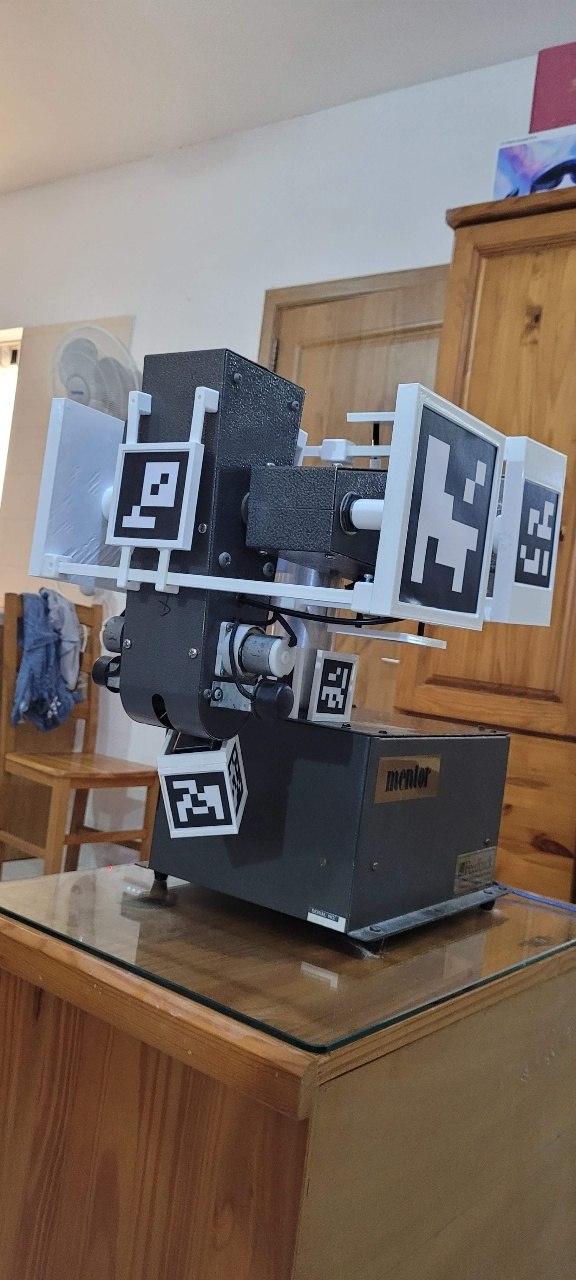Robot: (3, 262, 548, 1112)
